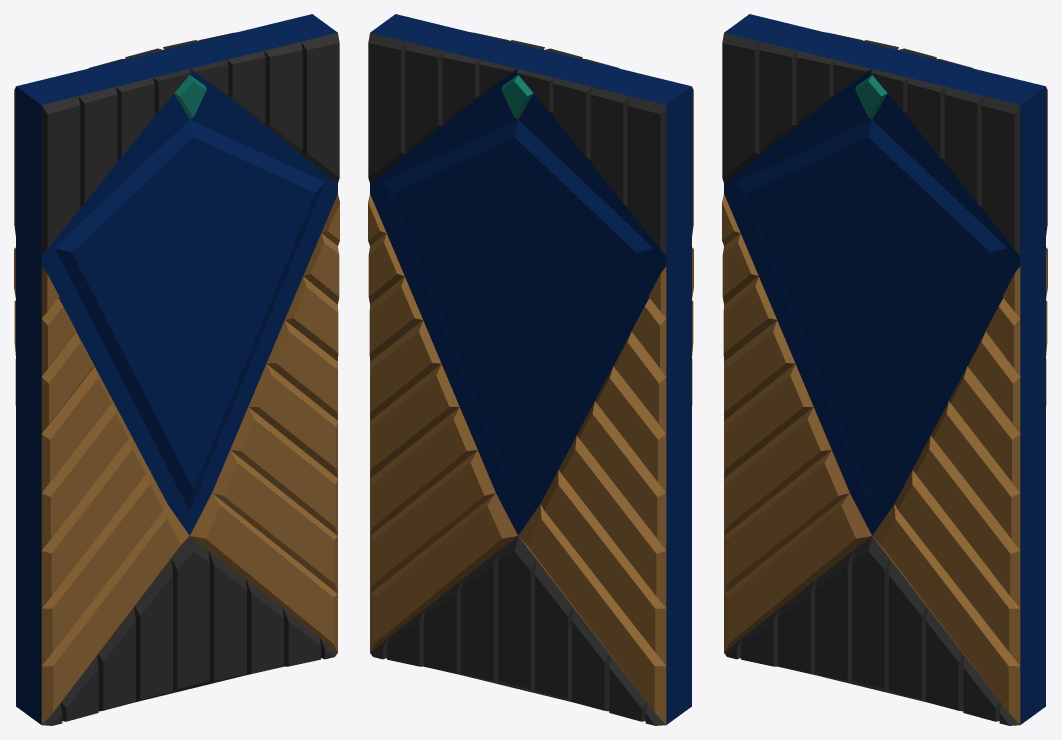
Rendered from AncientEgiptianWall.glb.
The picture shows the model from 3 angles, left to right: view 1: azimuth 30°, elevation 25°; view 2: azimuth 150°, elevation 25°; view 3: azimuth 330°, elevation 25°; orthographic projection.
Parts seen in each view (by area): view 1: wall_diamond; view 2: wall_diamond; view 3: wall_diamond.
Part boxes in pixels (x1,y1,x2,y2): wall_diamond: [14, 14, 339, 725]; wall_diamond: [368, 14, 693, 725]; wall_diamond: [722, 14, 1047, 725].
Size of what is drawn, in the model's own units: 2 by 4 by 0.3885.
Materials: 1 (1 with a texture image).
